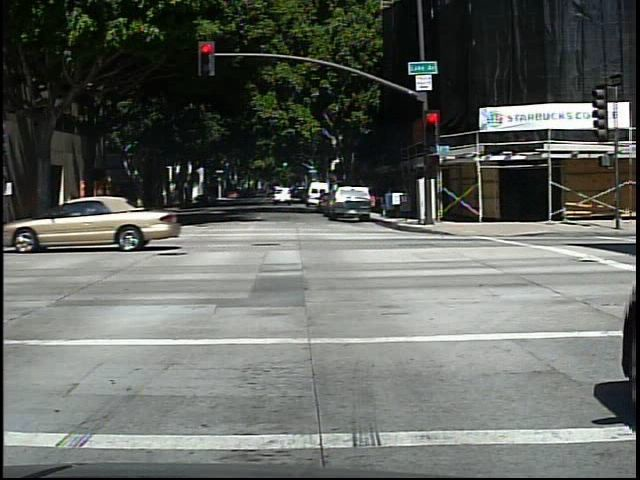person: (60, 185, 89, 238)
